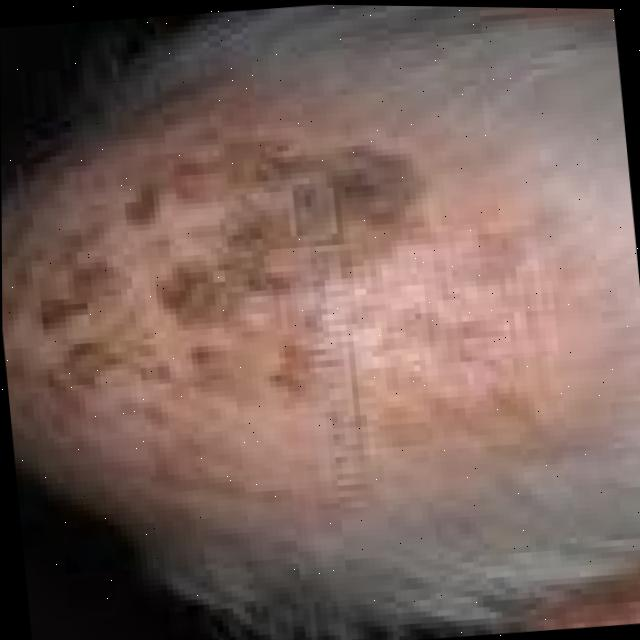Melasma: (27, 128, 369, 361)
